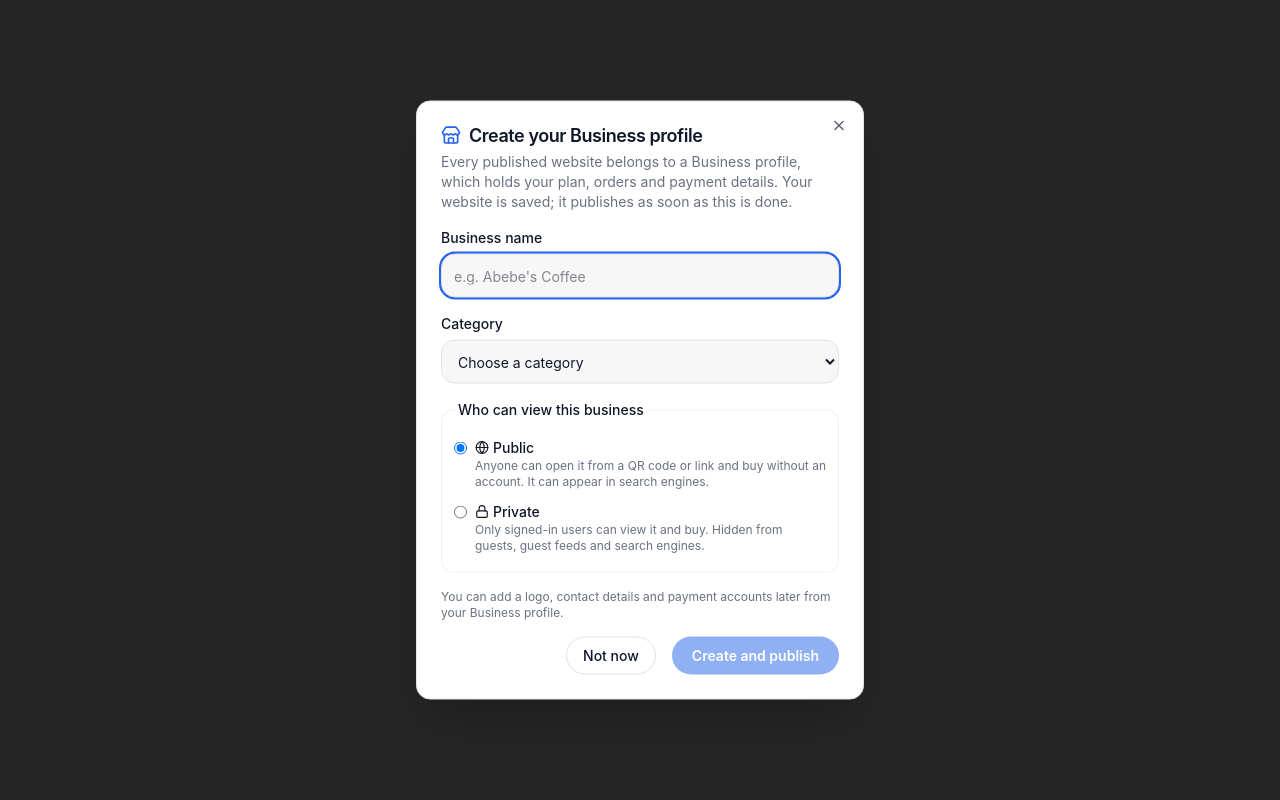
Test case: PublishBusinessDialog › needs a name and a category
Expected: the button "Create and publish" is disabled, [672, 636, 839, 674]
Type "Abebe Coffee" into the field labelled "Business name".
click(640, 276); type("Abebe Coffee")  # box [441, 254, 839, 298]
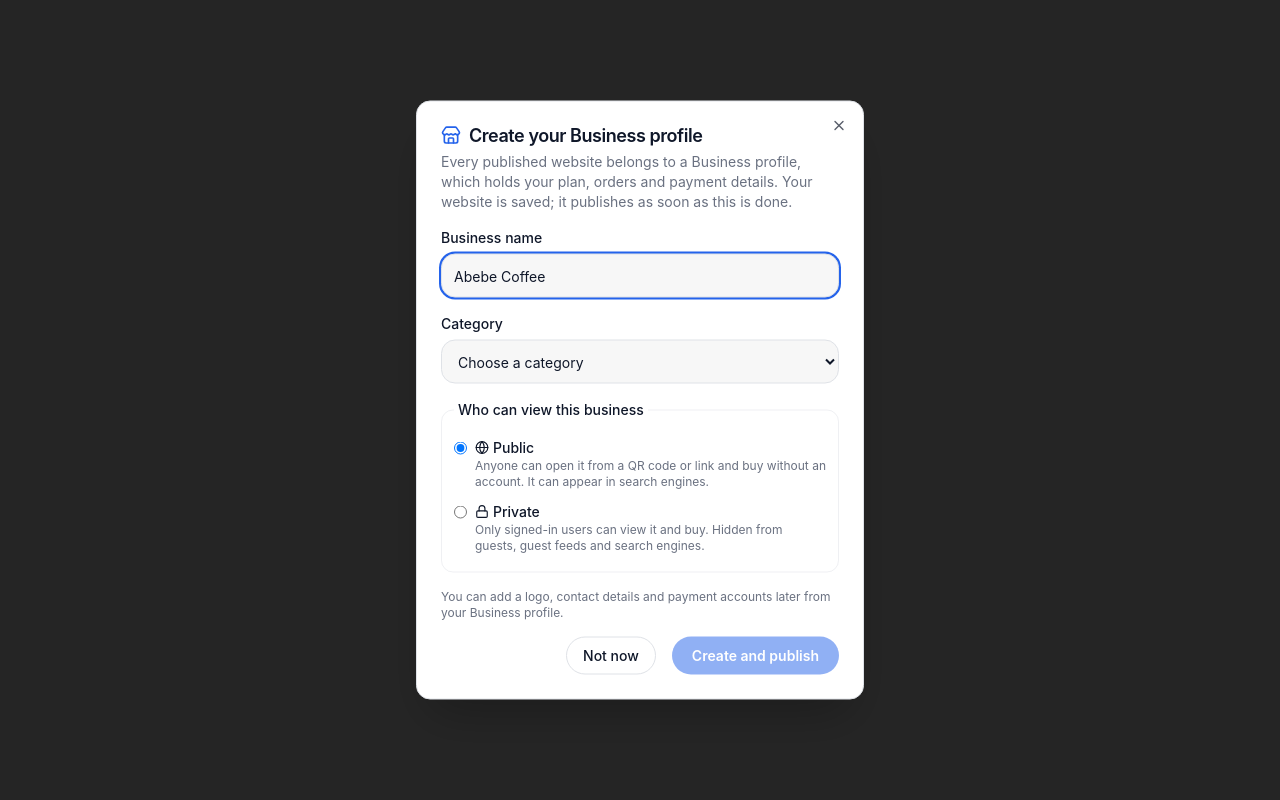
Expected: the button "Create and publish" is disabled, [672, 636, 839, 674]
Select "Restaurant / Food" in the dropdown labelled "Category" at (640, 362), box [441, 340, 839, 384]
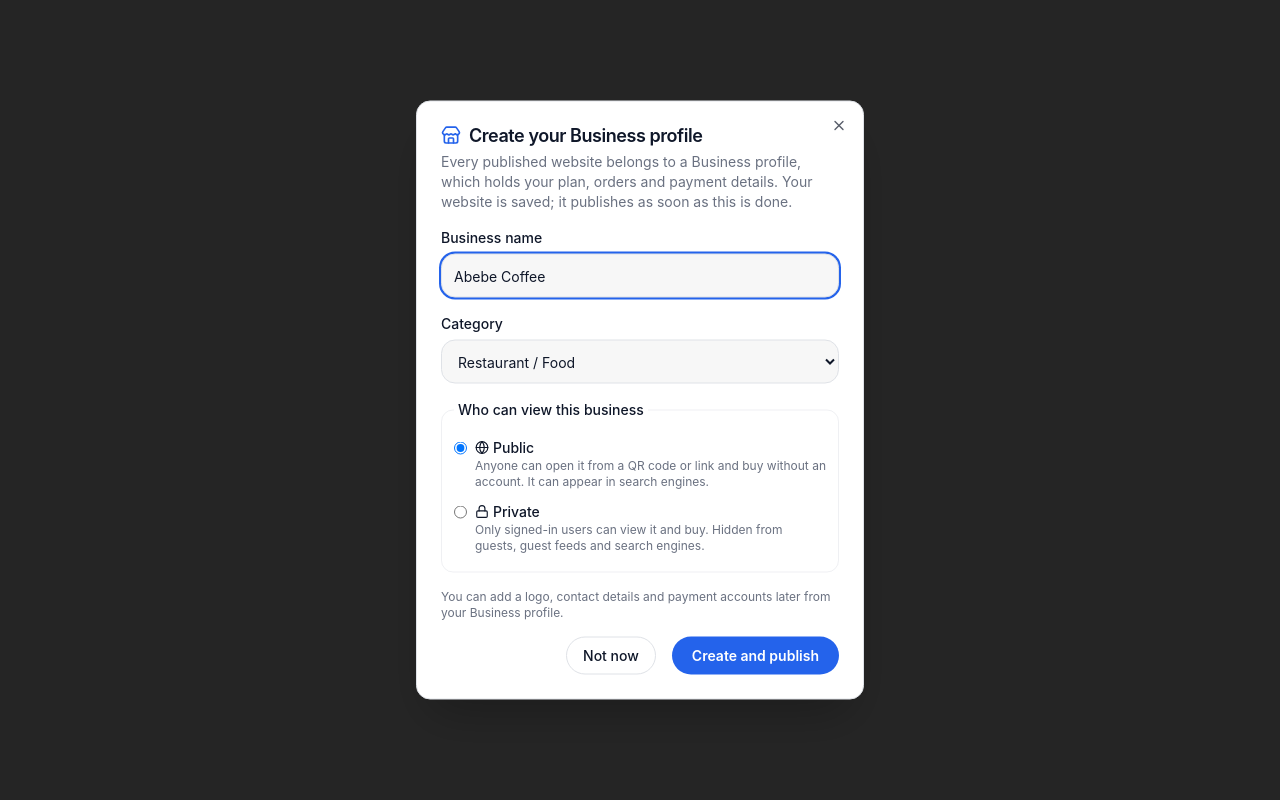
Expected: the button "Create and publish" is enabled, [672, 636, 839, 674]
